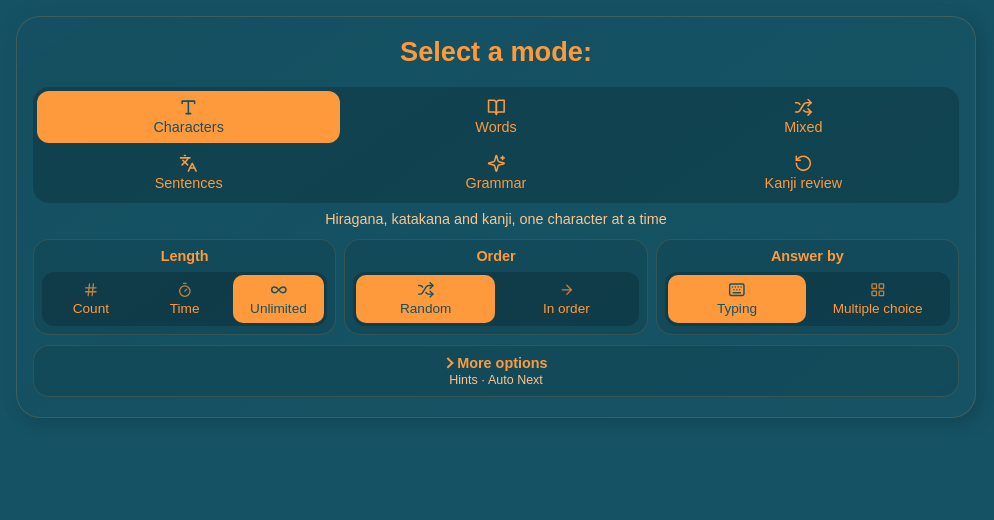
Test: practice tabs › the practice type is a row of tabs at the top, with what it is about
This screenshot has width=994, height=520.
Expected: the text "Hiragana, katakana and kanji, one character at a time" is shown, top-left (325, 211), bottom-right (667, 227)
Click the tab "Sentences" at (189, 173), box top-left (37, 147), bottom-right (340, 199)
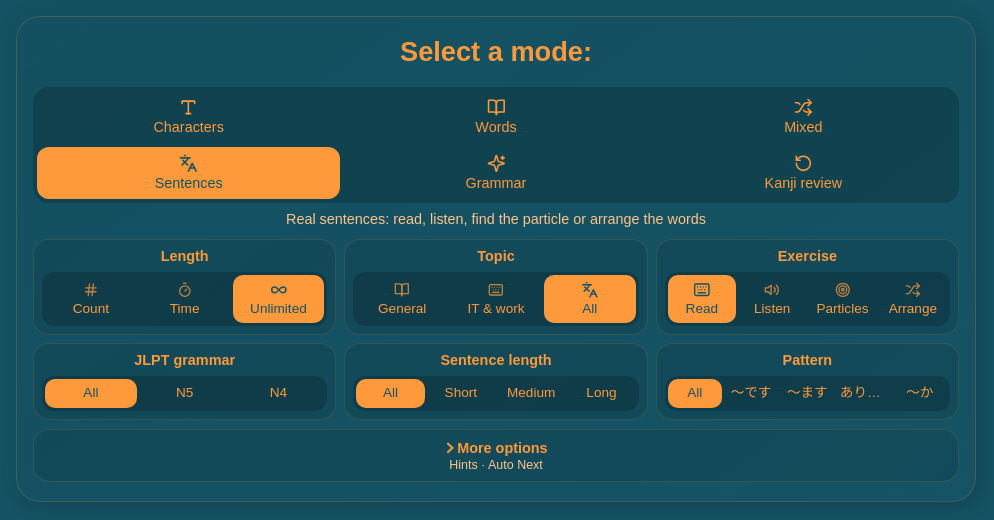
Now the text "Real sentences" is shown, box top-left (286, 211), bottom-right (706, 227)
